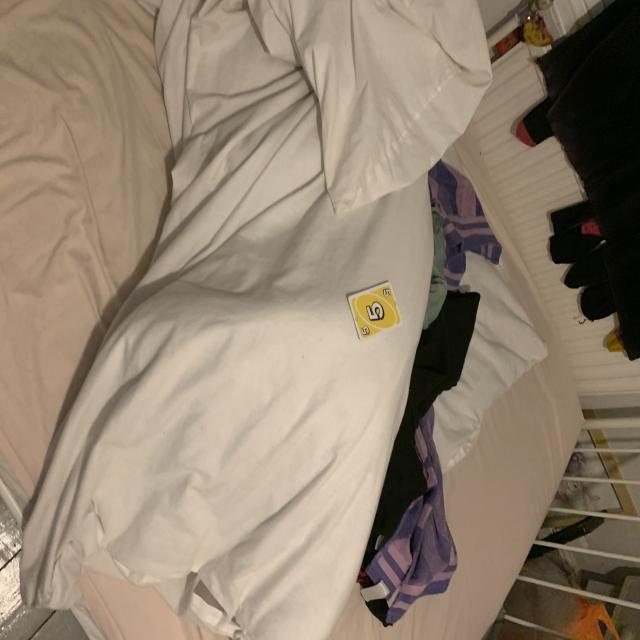lyellow-5: (381, 288, 392, 298)
